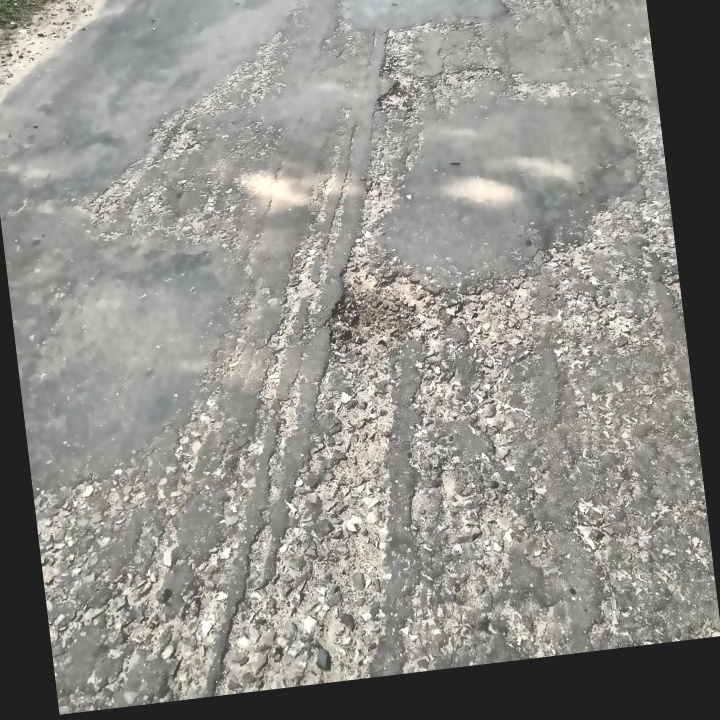pothole: (319, 260, 448, 360), (374, 78, 418, 120)
